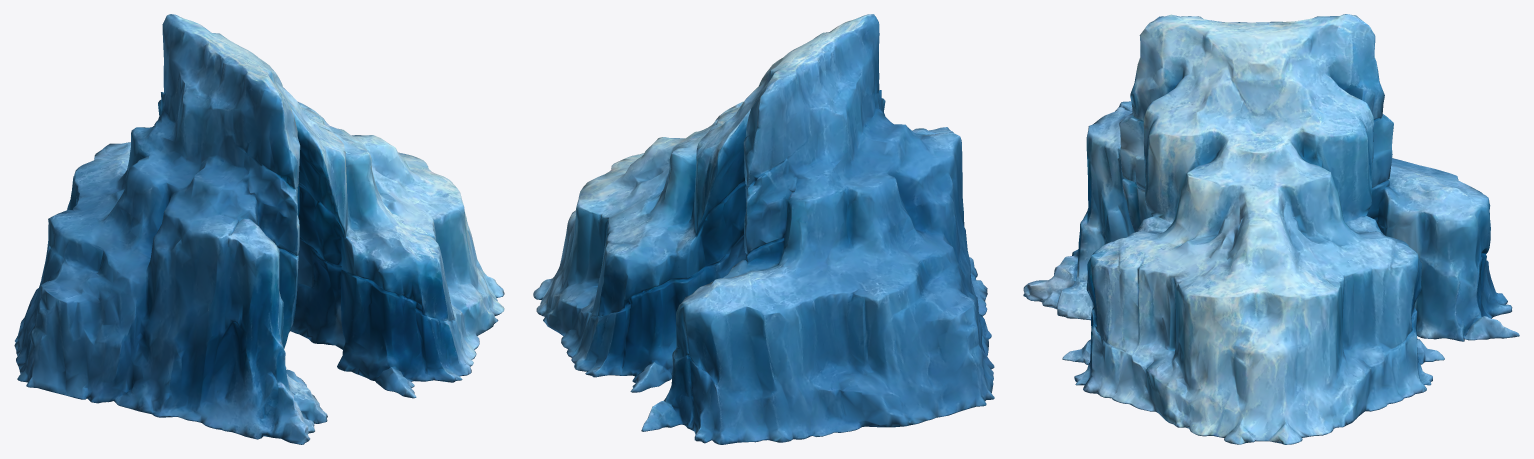
The model's file is iceberg.glb.
3 renders of one model, left to right at view 1: azimuth 30°, elevation 25°; view 2: azimuth 150°, elevation 25°; view 3: azimuth 270°, elevation 25°, orthographic.
Visible parts, largest first — view 1: tripo_node_5b05857c-3742-4a0e-bb74-244a1031eb3c; view 2: tripo_node_5b05857c-3742-4a0e-bb74-244a1031eb3c; view 3: tripo_node_5b05857c-3742-4a0e-bb74-244a1031eb3c.
Part boxes in pixels (bbox=[...]): tripo_node_5b05857c-3742-4a0e-bb74-244a1031eb3c: bbox=[14, 14, 504, 444]; tripo_node_5b05857c-3742-4a0e-bb74-244a1031eb3c: bbox=[533, 14, 994, 444]; tripo_node_5b05857c-3742-4a0e-bb74-244a1031eb3c: bbox=[1023, 14, 1519, 444].
Size of the model in its own units: 1 by 0.63 by 0.9493.
1 material, 1 textured.
